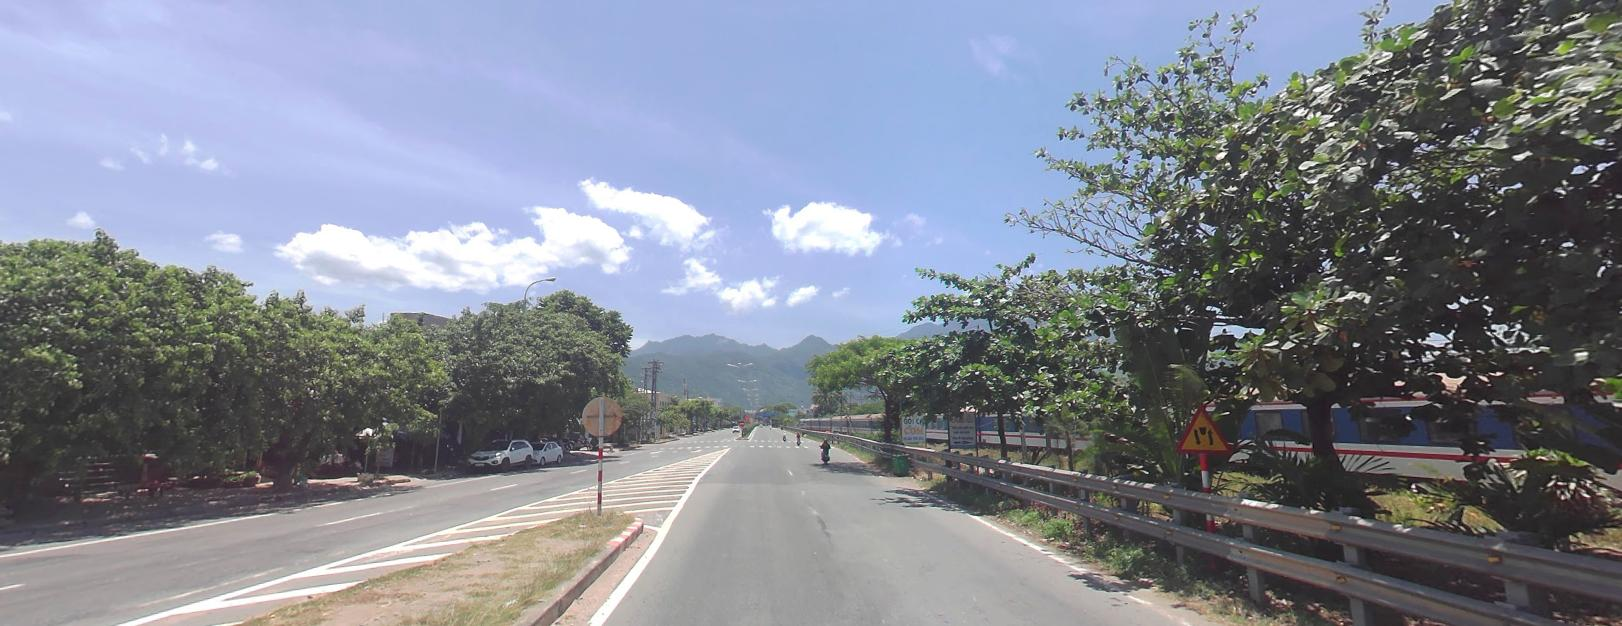Cam nguoc chieu: (738, 419, 744, 425)
Nguy hiem: (1176, 400, 1231, 453)
